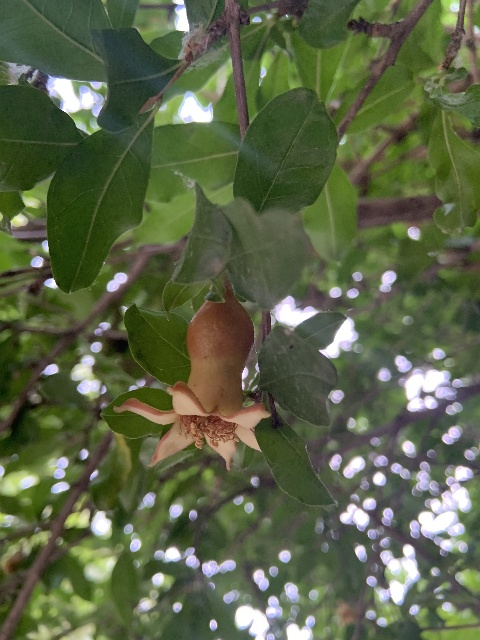early-fruit: (116, 280, 270, 474)
